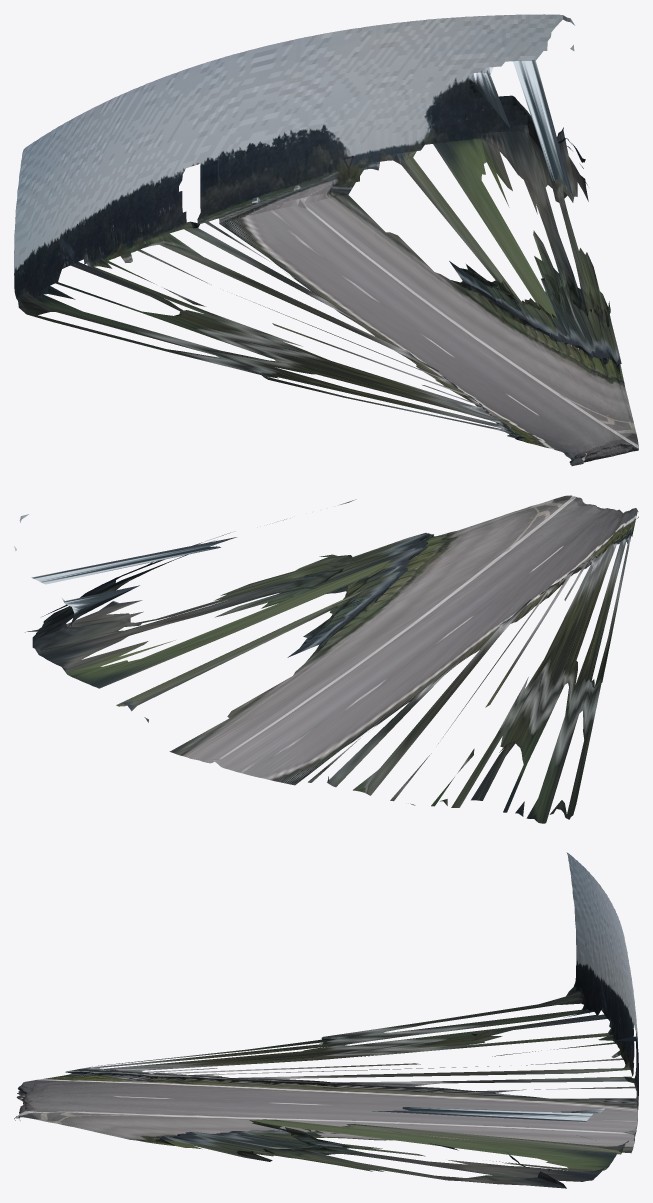
3 views of the same model, one above another, from view 1: azimuth 30°, elevation 25°; view 2: azimuth 150°, elevation 25°; view 3: azimuth 270°, elevation 25° (orthographic). The views are drawn at different scales.
Parts seen in each view (by area): view 1: defaultobject; view 2: defaultobject; view 3: defaultobject.
Part boxes in pixels (x1,y1,x2,y2): defaultobject: [14, 14, 638, 466]; defaultobject: [14, 495, 638, 823]; defaultobject: [14, 852, 638, 1188].
Bounding box in the file's own units: 40.86 × 12.58 × 44.55.
1 material, 1 textured.
